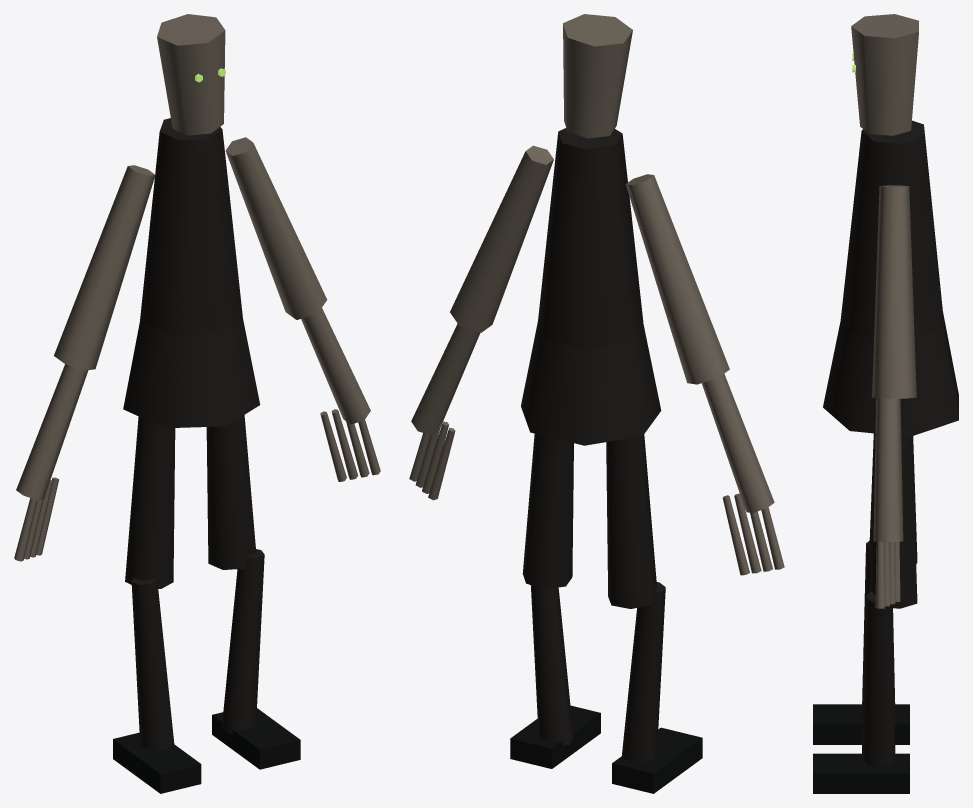
The model's file is ucb_corridor_creature_psx.glb.
The picture shows the model from 3 angles, left to right: view 1: azimuth 30°, elevation 25°; view 2: azimuth 150°, elevation 25°; view 3: azimuth 270°, elevation 25°; orthographic projection. The views are drawn at different scales.
Visible parts, largest first — view 1: torso, long_arm (×2), leg (×2), torso_low, shin (×2), head, forearm (×2), foot (×2); view 2: torso, long_arm (×2), leg (×2), torso_low, shin (×2), head, forearm (×2), foot (×2), finger_0 (×2), finger_1; view 3: torso, torso_low, long_arm, head, foot (×2), shin (×2), forearm, leg (×2), finger_3, finger_2, finger_1, finger_0.
Boxes of the visible parts, <box> form: torso: <box>140,118,242,334</box>; long_arm (×2): <box>54,137,327,370</box>; leg (×2): <box>125,415,256,588</box>; torso_low: <box>123,317,260,428</box>; shin (×2): <box>131,549,264,749</box>; head: <box>157,14,225,135</box>; forearm (×2): <box>16,308,370,500</box>; foot (×2): <box>113,708,300,793</box>; torso: <box>538,128,643,349</box>; long_arm (×2): <box>450,145,729,384</box>; leg (×2): <box>522,433,656,608</box>; torso_low: <box>521,320,661,445</box>; shin (×2): <box>530,582,665,762</box>; head: <box>563,14,632,138</box>; forearm (×2): <box>411,323,774,512</box>; foot (×2): <box>510,705,702,793</box>; finger_0 (×2): <box>428,427,749,575</box>; finger_1: <box>734,493,761,573</box>; torso: <box>840,120,942,338</box>; torso_low: <box>823,311,958,436</box>; long_arm: <box>872,185,916,398</box>; head: <box>851,14,918,135</box>; foot (×2): <box>813,704,909,793</box>; shin (×2): <box>861,541,895,766</box>; forearm: <box>873,398,903,541</box>; leg (×2): <box>869,433,917,608</box>; finger_3: <box>875,541,884,608</box>; finger_2: <box>884,542,889,606</box>; finger_1: <box>889,542,895,604</box>; finger_0: <box>894,541,900,601</box>.
Bounding box in the file's own units: 2.87 × 5.43 × 0.9775.
